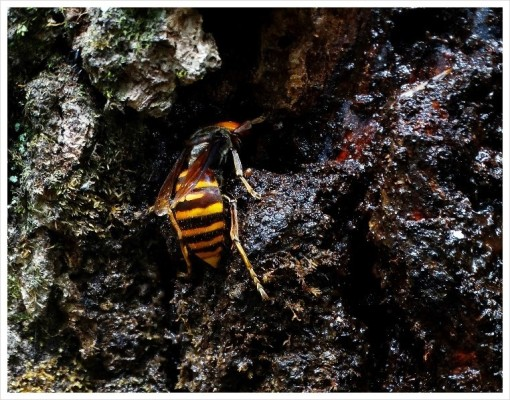asian_giant_hornet: (155, 117, 254, 268)
